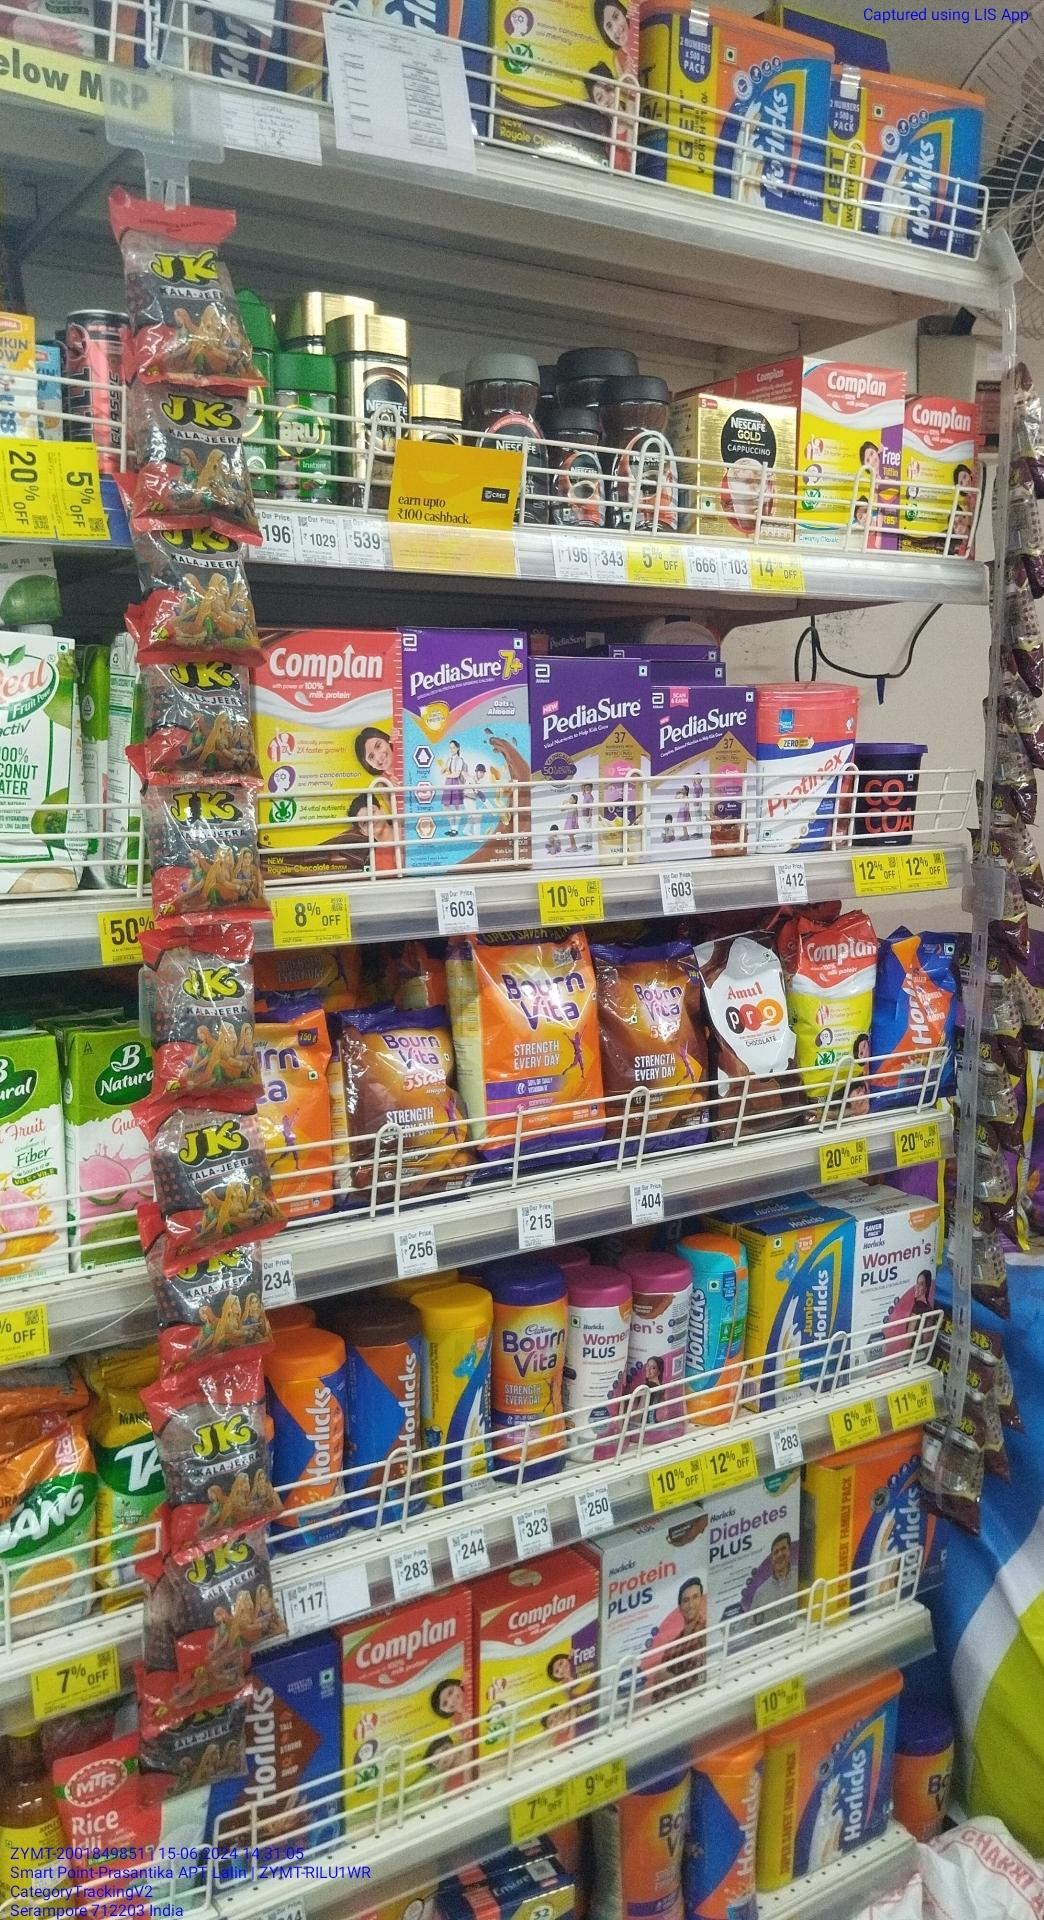BOURN_VITA_1_KG_POUCH: (478, 927, 607, 1177)
BOURN_VITA_500_G_JAR: (492, 1262, 567, 1486)
BOURN_VITA_FIVE_STAR_MAGIC_500_G_POUCH: (345, 1015, 467, 1200), (613, 943, 714, 1153)
COMPLAN_CHOCOLATE_1_KG_PACK: (261, 630, 402, 878)
COMPLAN_CHOCOLATE_500_GMS_PACK: (900, 392, 985, 558)
COMPLAN_CREAMY_CLASSIC_500_G_PACK: (797, 359, 899, 549)
COMPLAN_KESAR_BADAM_500_GMS_PACK: (482, 1573, 599, 1771)
COMPLAN_PISTA_BADAM_500_GMS_PACK: (342, 1604, 473, 1818)
HORLICKS_LITE_REGULAR_MALT_500_GM_JAR: (690, 1235, 748, 1427)
HORLICK_CHOCOLATE_500_G_JAR: (347, 1298, 426, 1531)
HORLICK_MALT_1_KG_CONTAINER: (651, 3, 832, 216), (834, 75, 987, 248)
PEDIASURE_CHOCOLATE_500_G_PACK: (653, 686, 759, 857)
PEDIASURE_VANILLA_500_G_PACK: (532, 659, 652, 865)
